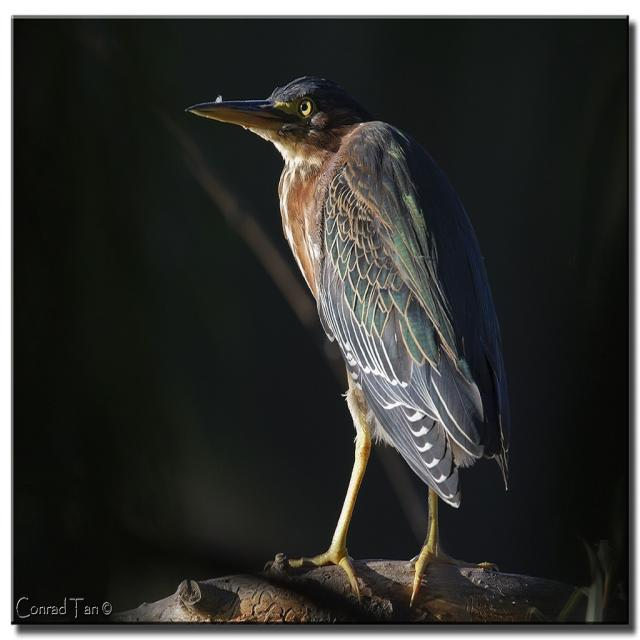bird: (173, 75, 522, 606)
